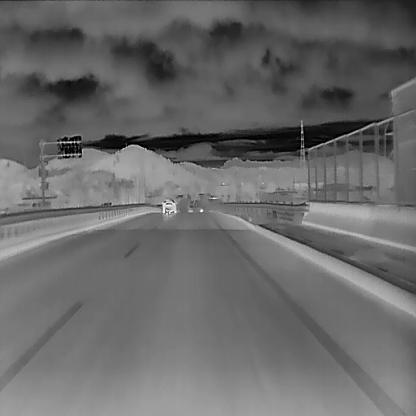car: (162, 198, 178, 212)
